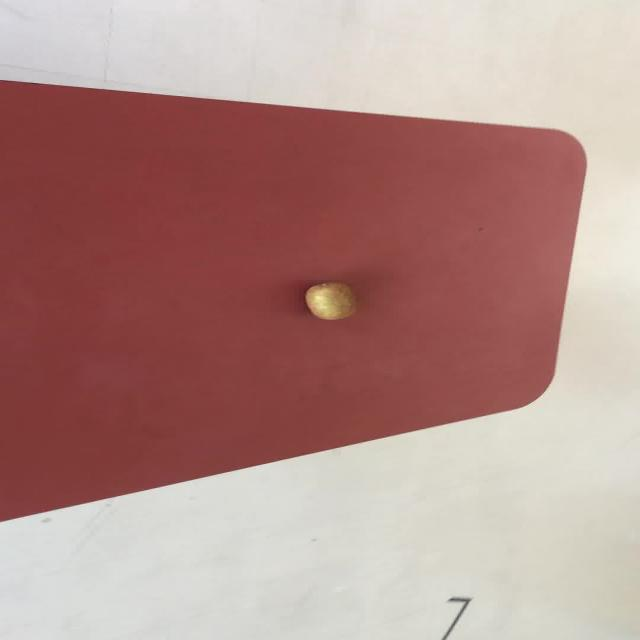kiwi: (304, 281, 354, 320)
